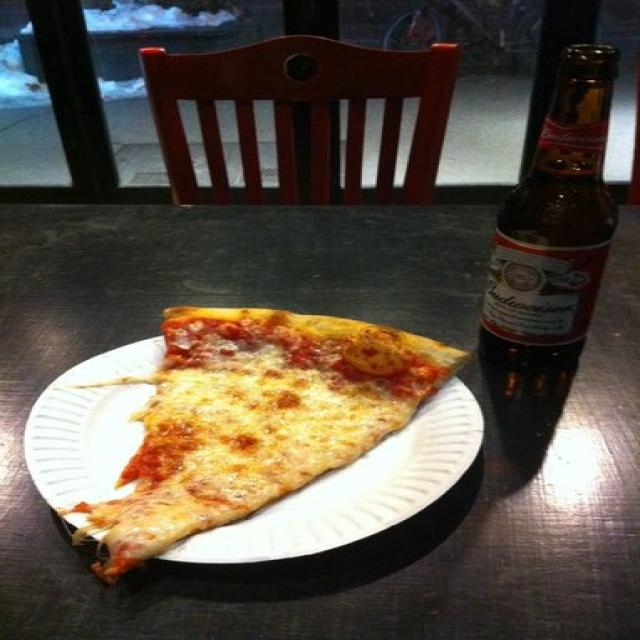Pizza: (74, 308, 469, 585)
